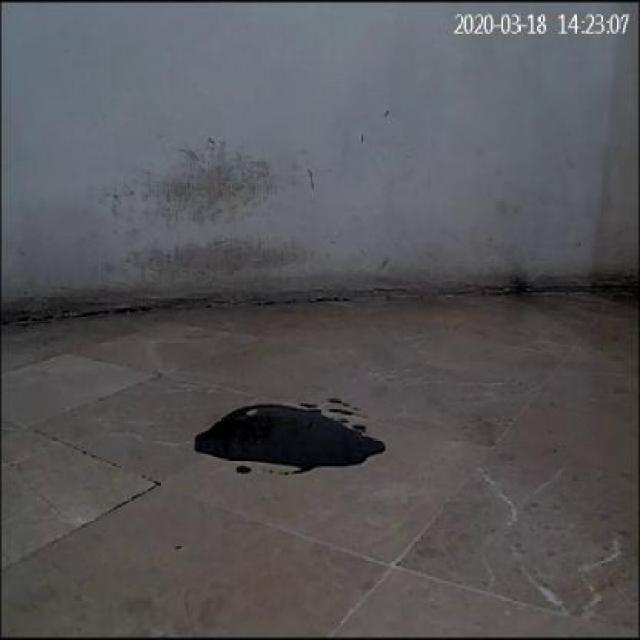spill: (193, 402, 387, 475)
